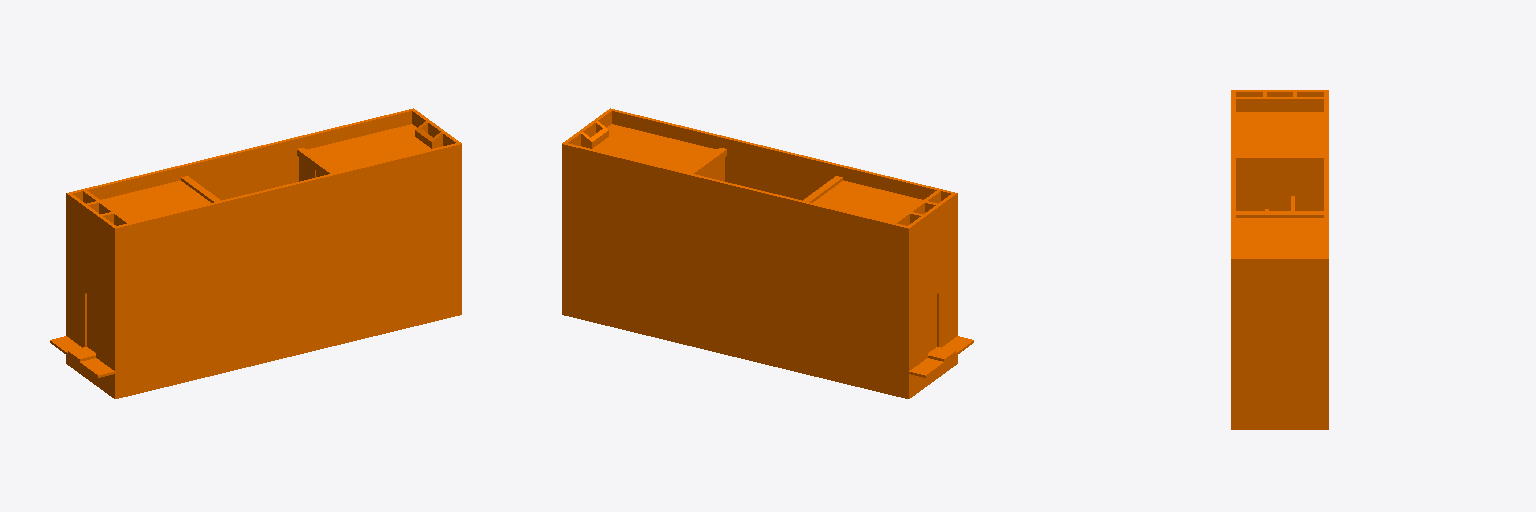
File: Building.obj
3 views of the same model, side by side, from view 1: azimuth 30°, elevation 25°; view 2: azimuth 150°, elevation 25°; view 3: azimuth 270°, elevation 25° (orthographic).
Size of the model in its own units: 14.94 by 6.7 by 3.45.